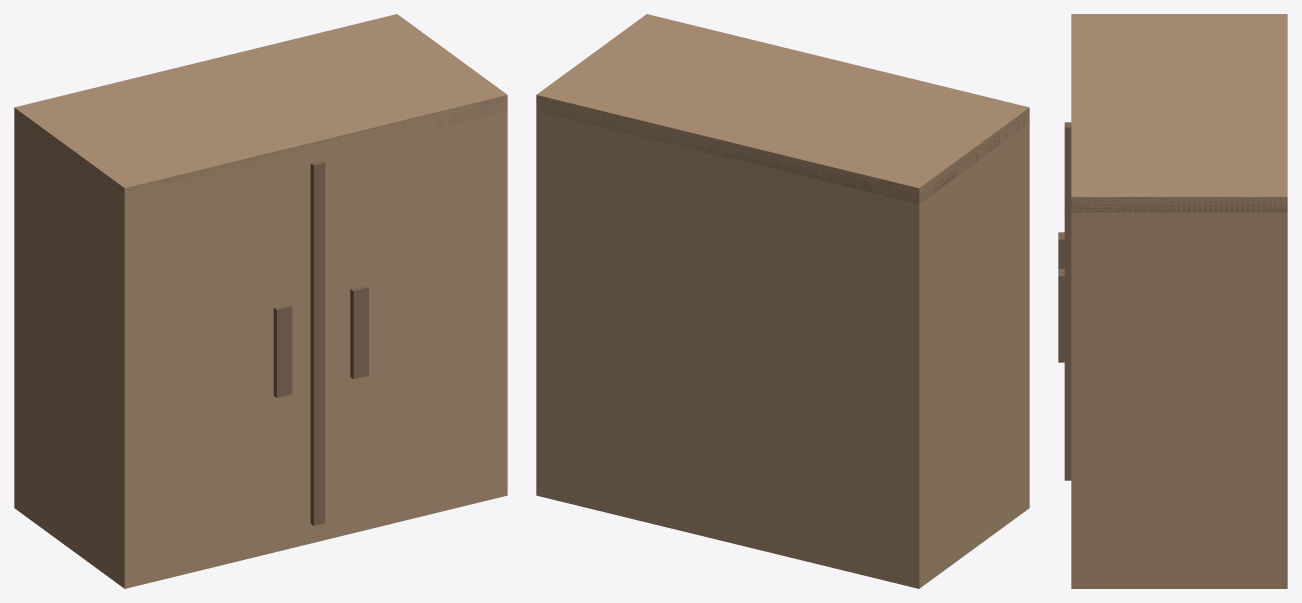
File: Cabinet.fbx
3 views of the same model, side by side, from view 1: azimuth 30°, elevation 25°; view 2: azimuth 150°, elevation 25°; view 3: azimuth 270°, elevation 25° (orthographic). The views are drawn at different scales.
Parts seen in each view (by area): view 1: Cabinet; view 2: Cabinet; view 3: Cabinet.
Part boxes in pixels (left/top/right/bottom): Cabinet: left=14, top=14, right=507, bottom=588; Cabinet: left=536, top=14, right=1029, bottom=588; Cabinet: left=1058, top=14, right=1287, bottom=588.
Bounding box in the file's own units: 1 × 1 × 0.53.
